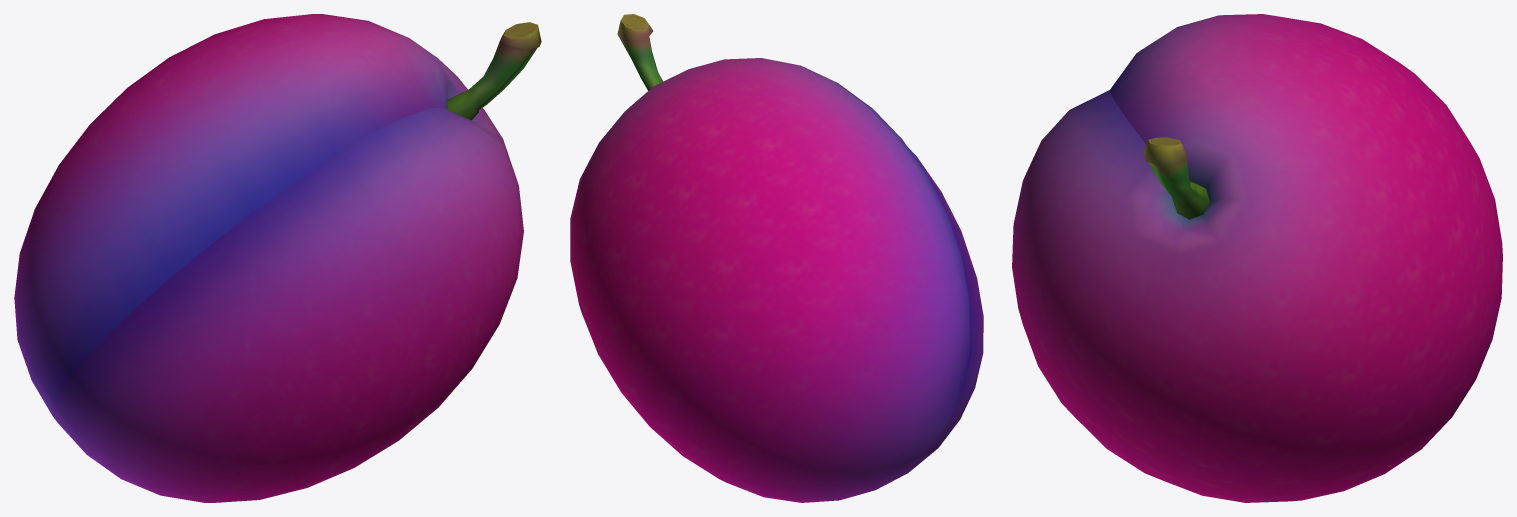
The model's file is plum_final_Draco.glb.
The picture shows the model from 3 angles, left to right: view 1: azimuth 30°, elevation 25°; view 2: azimuth 150°, elevation 25°; view 3: azimuth 270°, elevation 25°; orthographic projection. The views are drawn at different scales.
Parts seen in each view (by area): view 1: plum; view 2: plum; view 3: plum.
Boxes of the visible parts, left/top/right/bottom form: plum: left=14, top=14, right=541, bottom=502; plum: left=570, top=14, right=983, bottom=502; plum: left=1012, top=14, right=1502, bottom=502.
Size of the model in its own units: 0.9125 by 0.8626 by 0.8043.
Materials: 1 (1 with a texture image).
